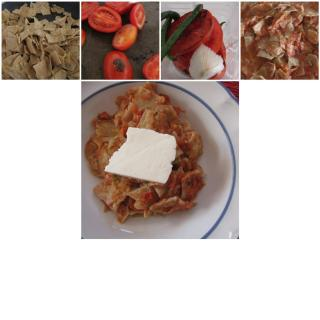tomato: (86, 7, 122, 32), (103, 50, 132, 80), (112, 24, 136, 51), (142, 53, 160, 81), (130, 2, 148, 28), (81, 0, 100, 20), (104, 0, 132, 12), (80, 28, 85, 47)
